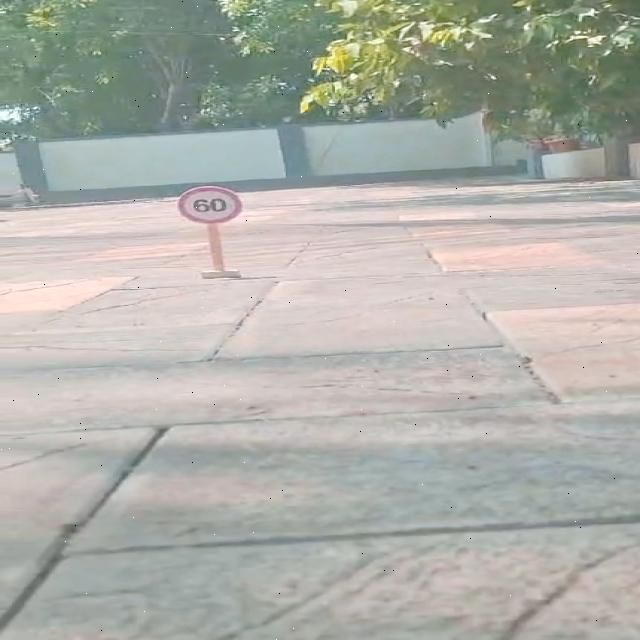Speed60: (158, 180, 260, 230)
